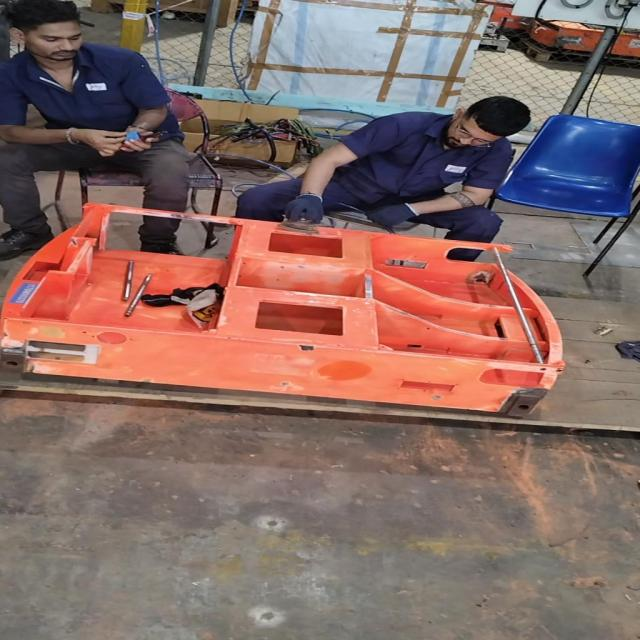Gloves-Detection: (285, 192, 332, 232), (367, 206, 417, 231)
